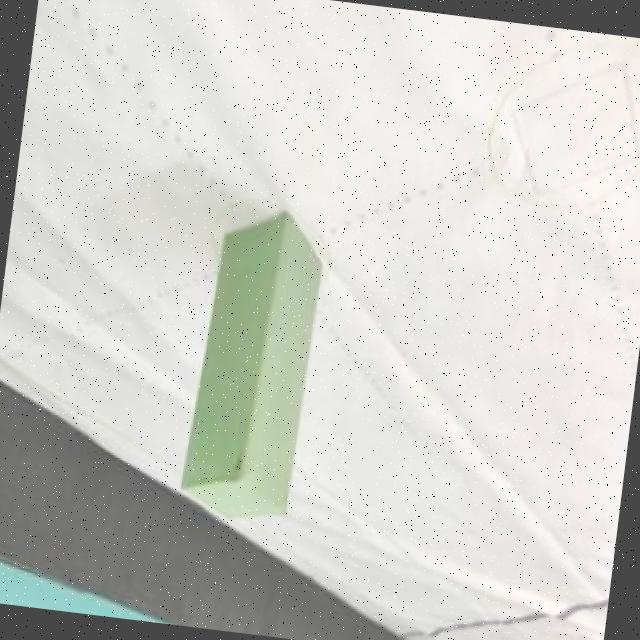greenbox: (173, 198, 328, 528)
